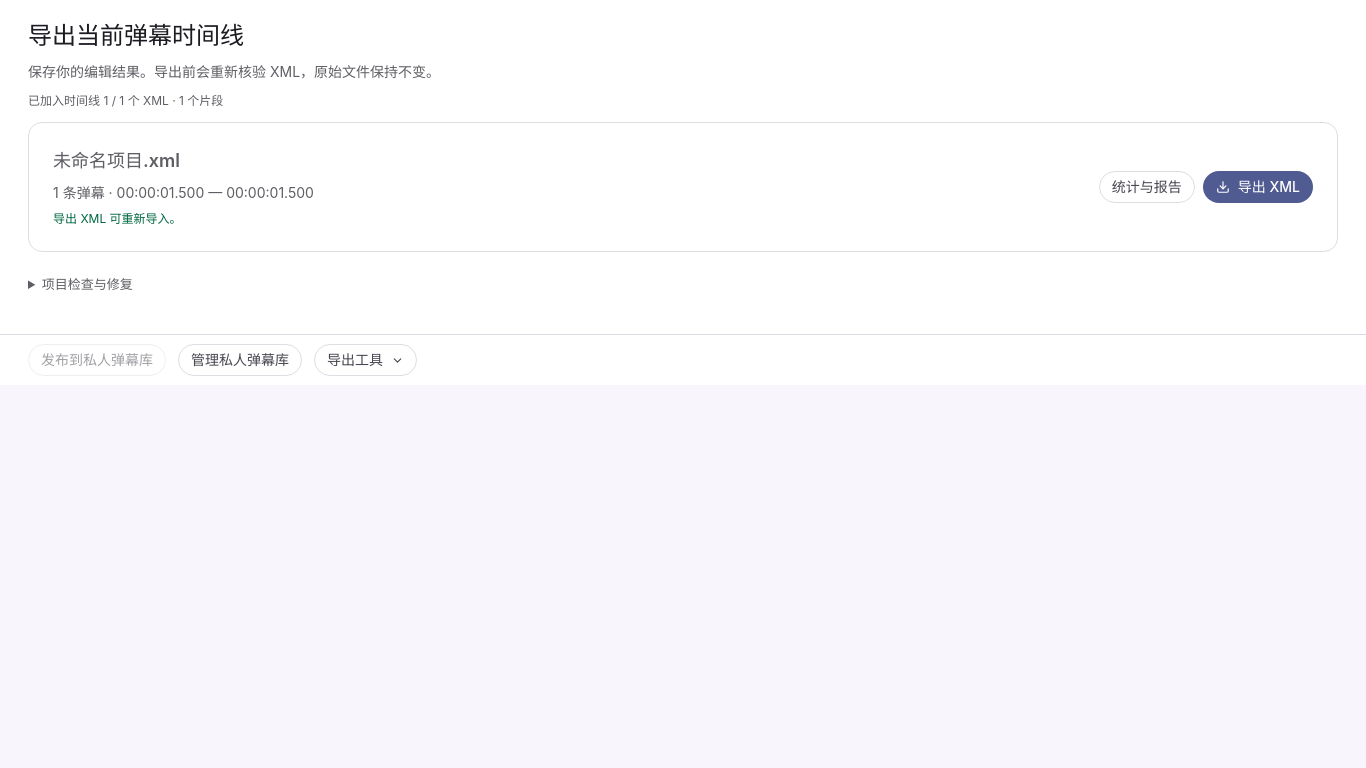
it: ExportWorkspace › does not calculate compatibility rules until explicitly opened, and clears them for another project
Click the button "导出工具".
click(366, 360)  # box [314,344,417,376]
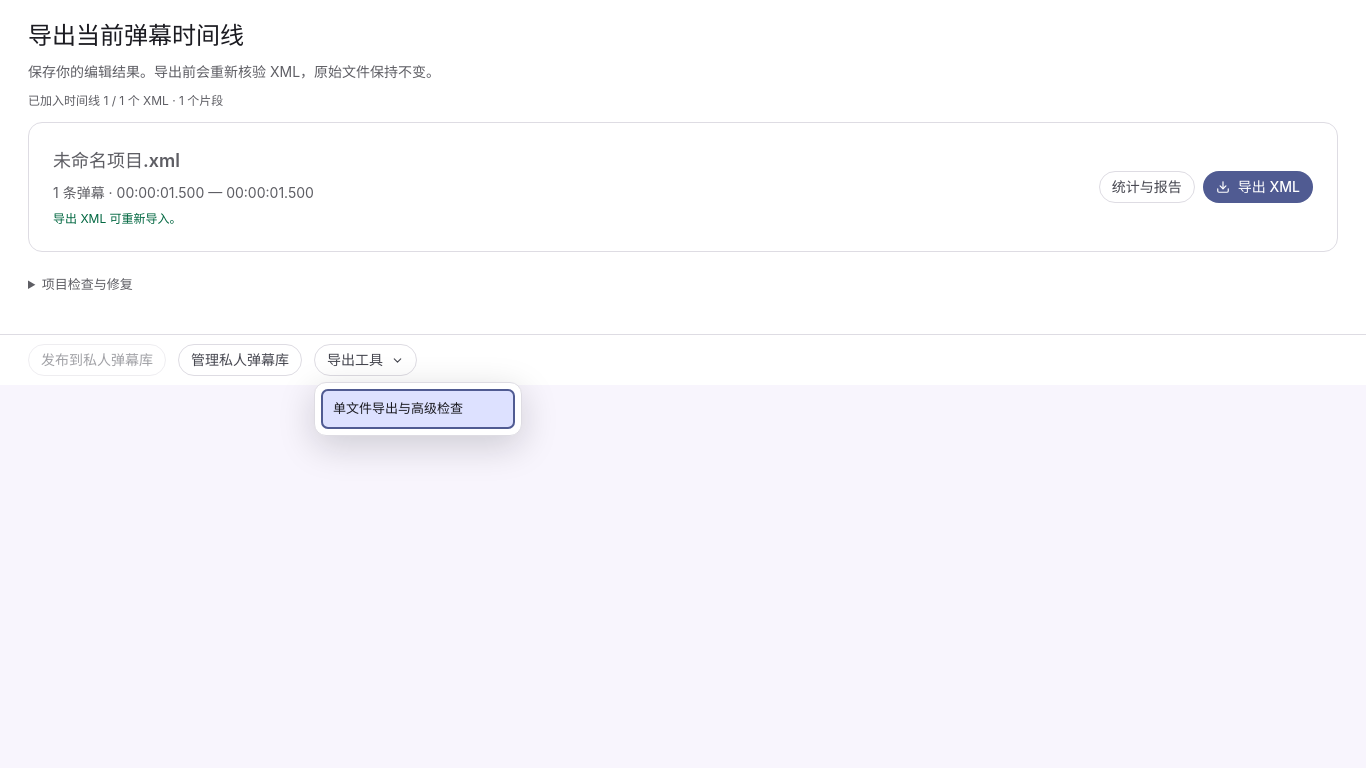
Click the menu item "单文件导出与高级检查".
click(418, 409)  # box [321,389,515,428]
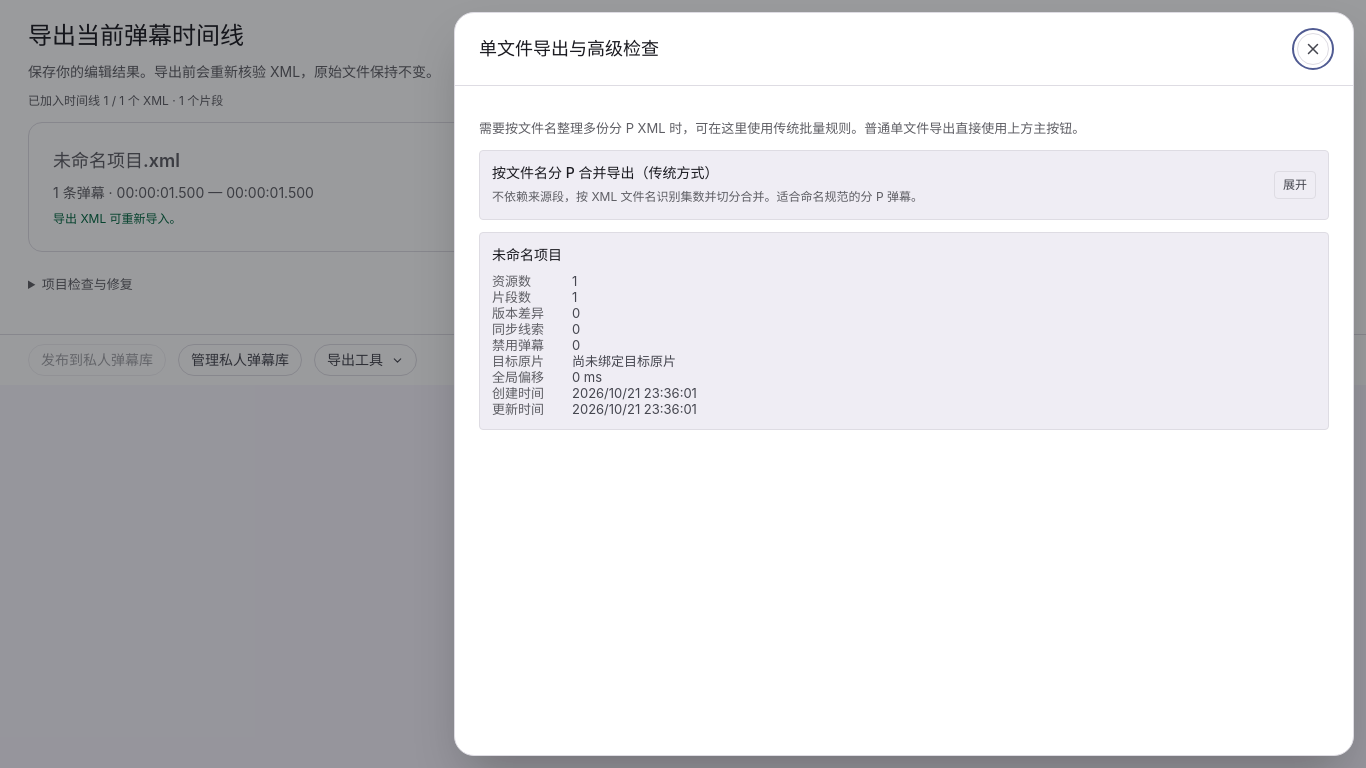
Result: the button "按文件名分 P 合并导出" is shown at [492,163,1316,207]
